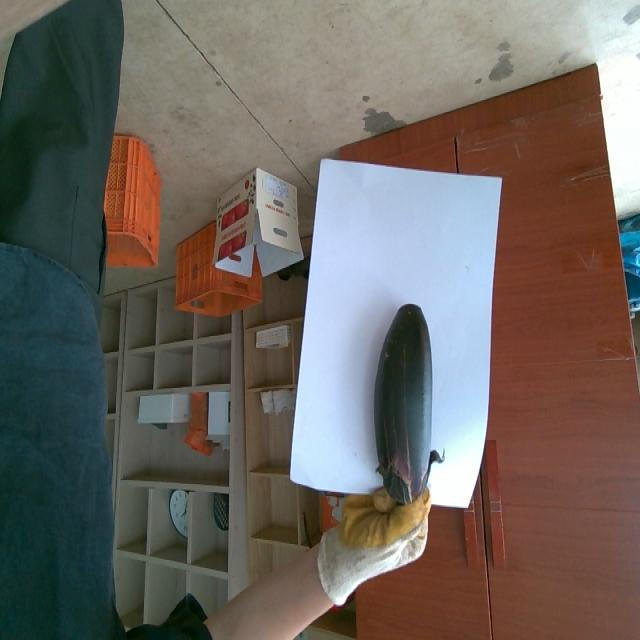Egg plant: (375, 305, 439, 504)
